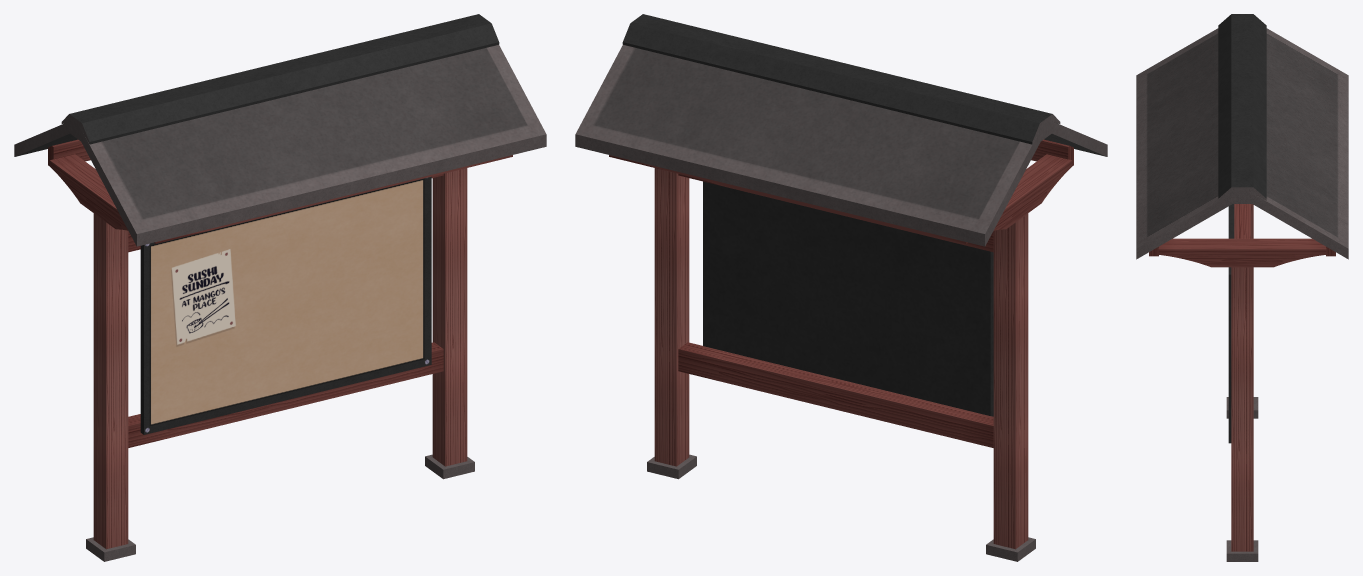
Rendered from Sign.fbx.
3 renders of one model, left to right at view 1: azimuth 30°, elevation 25°; view 2: azimuth 150°, elevation 25°; view 3: azimuth 270°, elevation 25°, orthographic. The views are drawn at different scales.
Parts seen in each view (by area): view 1: Sign; view 2: Sign; view 3: Sign.
Boxes of the visible parts, bbox=[...] form: Sign: bbox=[14, 14, 546, 561]; Sign: bbox=[575, 14, 1107, 561]; Sign: bbox=[1136, 14, 1348, 561].
Bounding box in the file's own units: 204 × 210 × 105.
